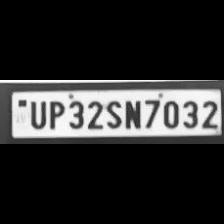0: (160, 97, 180, 128)
2: (198, 96, 218, 130), (84, 98, 104, 130)
3: (64, 98, 84, 130), (180, 97, 198, 129)
7: (141, 97, 159, 129)
N: (122, 96, 142, 130)
P: (46, 98, 64, 130)
S: (102, 97, 122, 128)
U: (26, 97, 46, 128)
